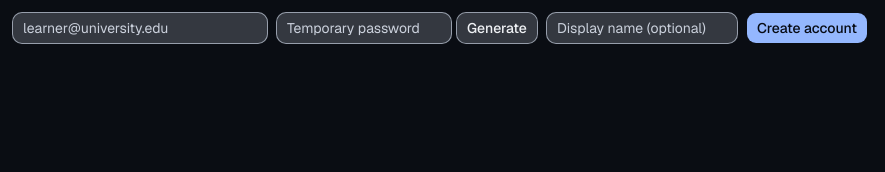
Test: CreateAccountForm › shows the error message when the request fails
This screenshot has width=885, height=172.
Type "dupe@uni.edu.qa" into the field named "Account email" at coordinates (140, 28), box [12,12,268,44]
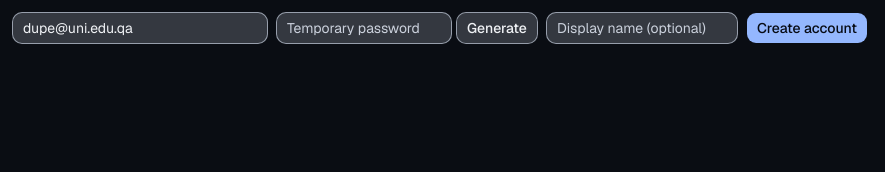
Type "longenough1" into the field labelled "Temporary password" at coordinates (364, 28), box [276,12,452,44]
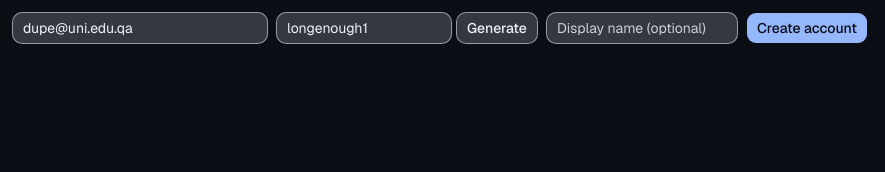
Click the button "Create account" at coordinates (807, 28), box [746,12,868,44]
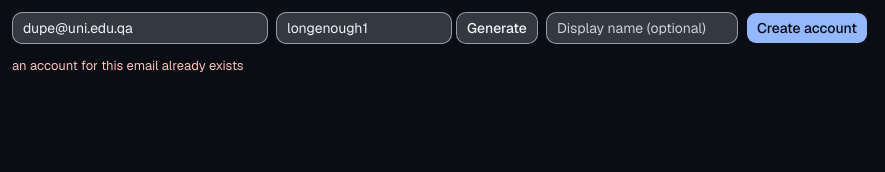
Now the text "an account for this email already exists" is shown, box [12,57,244,74]
